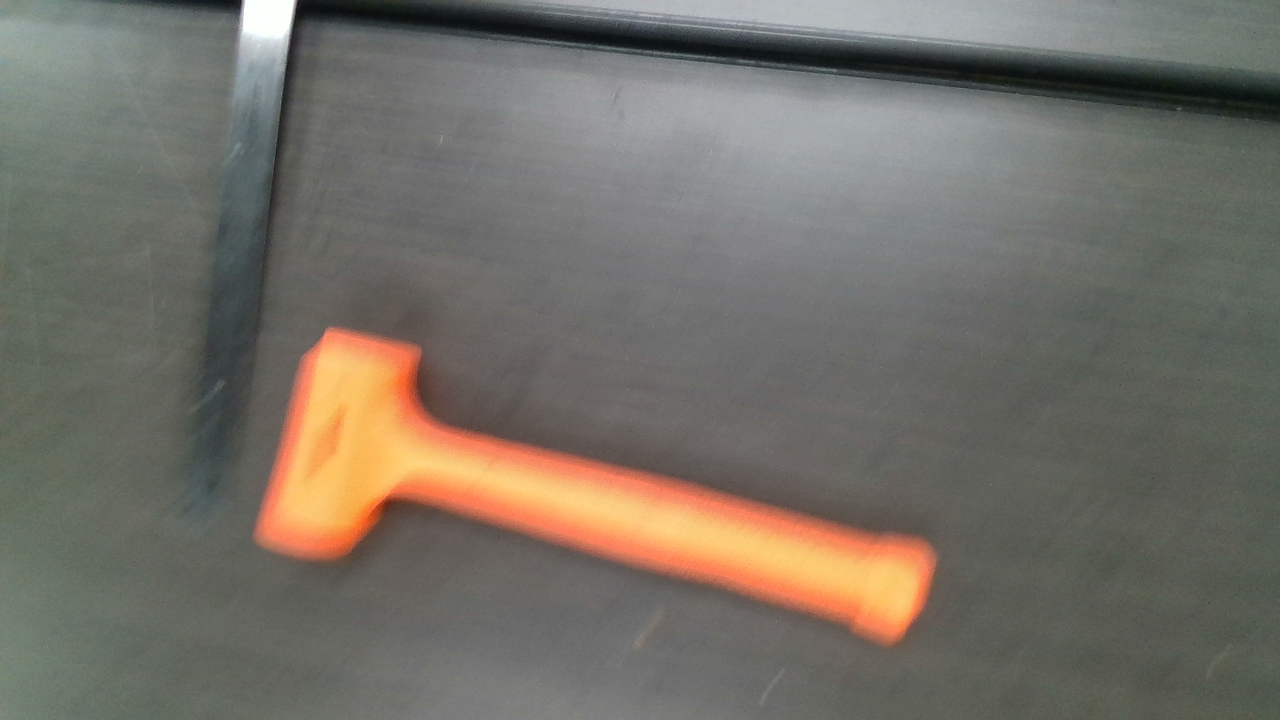Orange Hammer: (259, 325, 938, 646)
